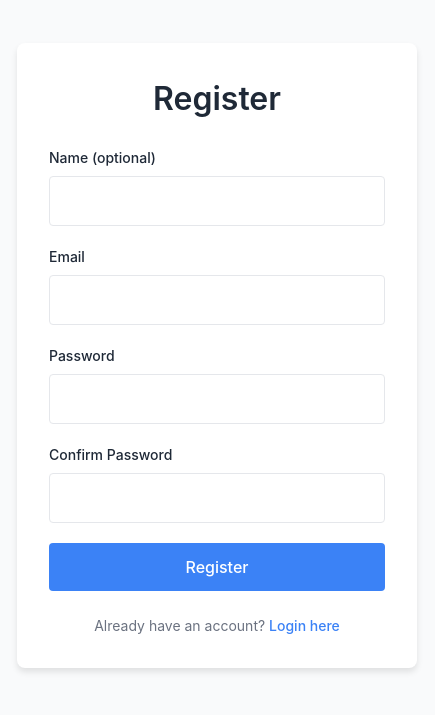
Test case: RegisterPage › error handling › should display validation error from API
Type "test@example.com" into the field labelled "Email" at (217, 300), box left=49, top=274, right=385, bottom=324
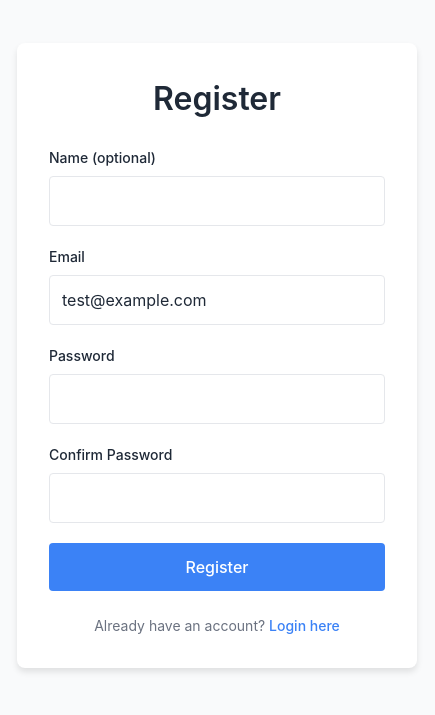
Type "WeakPass" into the password field labelled "Password" at (217, 398), box left=49, top=374, right=385, bottom=424
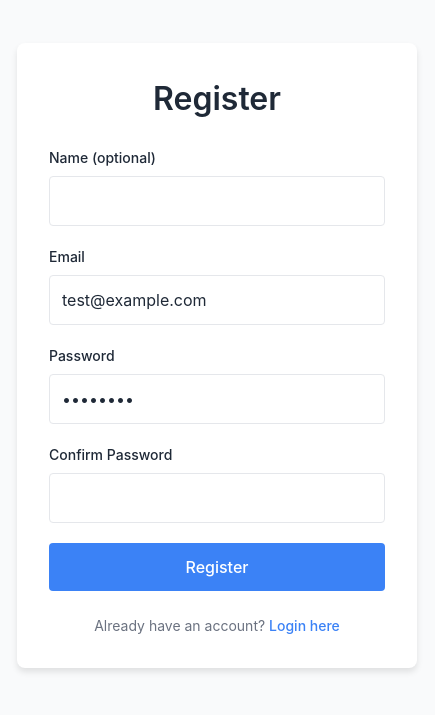
Type "WeakPass" into the password field labelled "Confirm Password" at (217, 498), box left=49, top=472, right=385, bottom=522
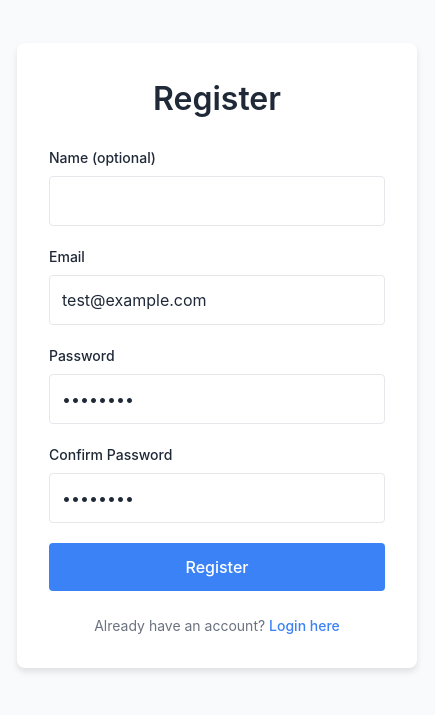
Click the button "Register" at (217, 566), box left=49, top=542, right=385, bottom=590
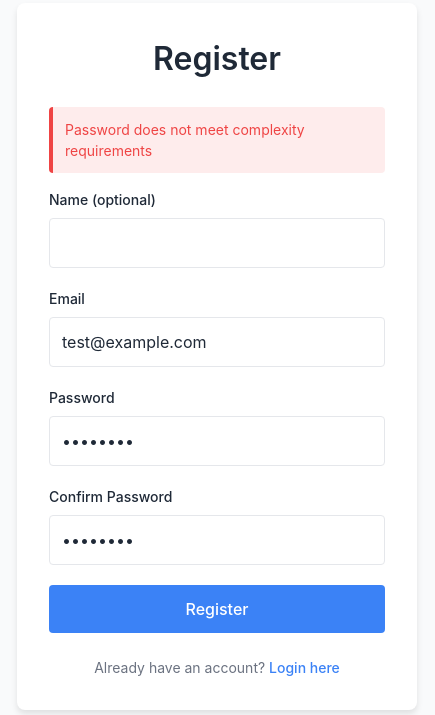
Now the text "Password does not meet complexity requirements" is shown, box left=49, top=107, right=385, bottom=173
